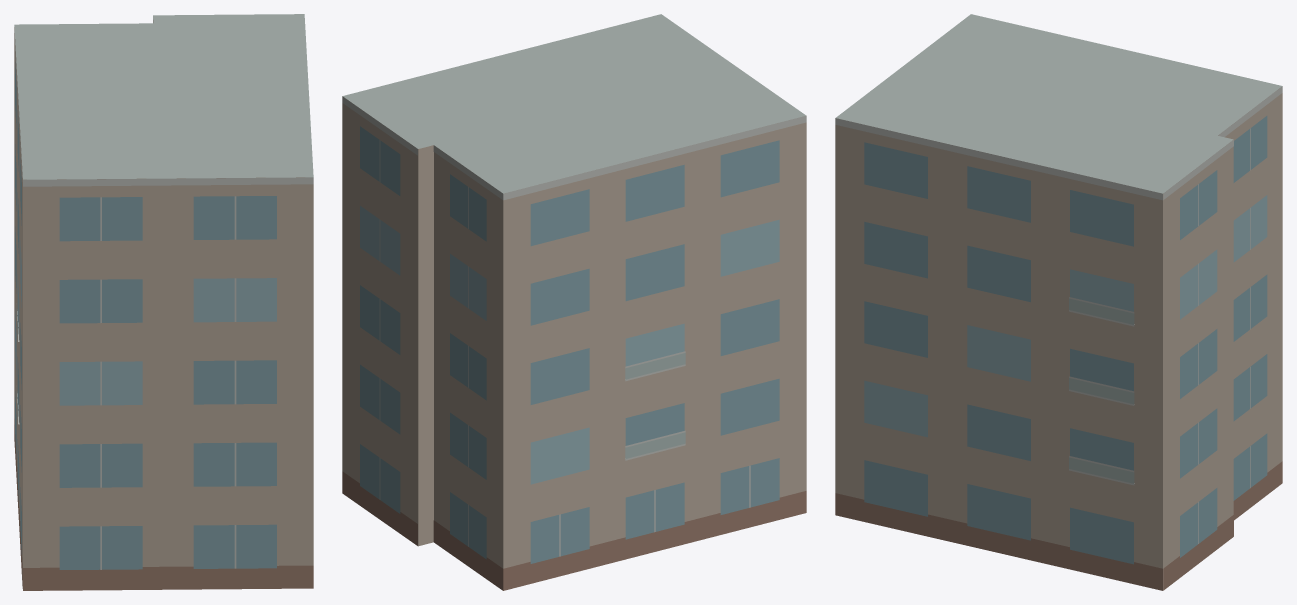
Rendered from survey-upis-32757685.glb.
3 views of the same model, side by side, from view 1: azimuth 30°, elevation 25°; view 2: azimuth 150°, elevation 25°; view 3: azimuth 270°, elevation 25° (orthographic). The views are drawn at different scales.
Parts seen in each view (by area): view 1: survey-upis-32757685.tmp; view 2: survey-upis-32757685.tmp; view 3: survey-upis-32757685.tmp.
Boxes of the visible parts, x1,y1,x2,y2 form: survey-upis-32757685.tmp: [14, 14, 313, 590]; survey-upis-32757685.tmp: [342, 14, 806, 590]; survey-upis-32757685.tmp: [835, 14, 1282, 590].
Size of the model in its own units: 13.93 by 14.35 by 14.65.
